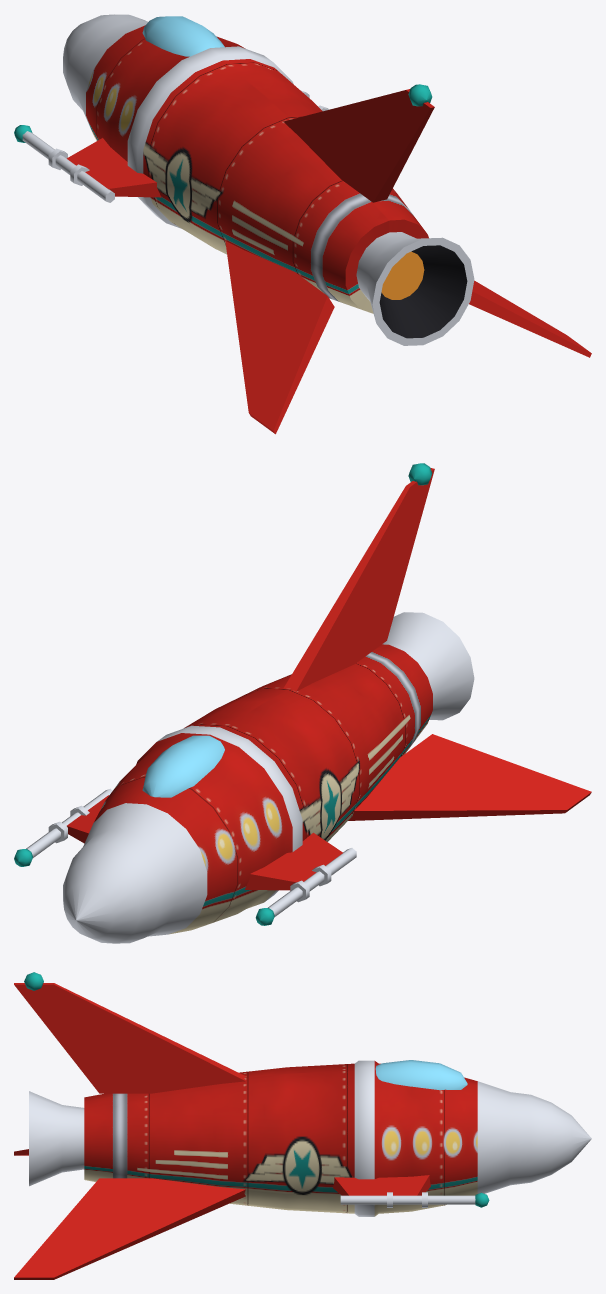
The model's file is comet.obj.
3 renders of one model, top to bottom at view 1: azimuth 30°, elevation 25°; view 2: azimuth 150°, elevation 25°; view 3: azimuth 270°, elevation 25°, orthographic. The views are drawn at different scales.
Parts seen in each view (by area): view 1: hull, fin240, bell, fin0, stub, canopy, fin120, gun; view 2: hull, fin240, fin0, bell, stub, canopy, gun, gun_ring; view 3: hull, fin0, fin120, bell, canopy, stub, gun.
Part boxes in pixels (<box>): hull: <box>63,14,428,313</box>; fin240: <box>225,241,334,434</box>; bell: <box>356,232,474,345</box>; fin0: <box>283,89,434,202</box>; stub: <box>67,138,161,197</box>; canopy: <box>142,16,224,56</box>; fin120: <box>469,280,591,357</box>; gun: <box>22,131,114,202</box>; hull: <box>63,644,432,943</box>; fin240: <box>348,734,591,820</box>; fin0: <box>283,468,434,691</box>; bell: <box>382,612,474,720</box>; stub: <box>67,795,342,890</box>; canopy: <box>142,735,224,797</box>; gun: <box>26,788,356,917</box>; gun_ring: <box>48,805,331,902</box>; hull: <box>84,1060,591,1216</box>; fin0: <box>14,983,245,1093</box>; fin120: <box>14,1178,245,1279</box>; bell: <box>29,1091,84,1186</box>; canopy: <box>375,1060,467,1090</box>; stub: <box>333,1175,430,1195</box>; gun: <box>340,1195,475,1204</box>.
Size of the model in its own units: 5.93 by 5.38 by 11.5.
Materials: 7 (1 with a texture image).
